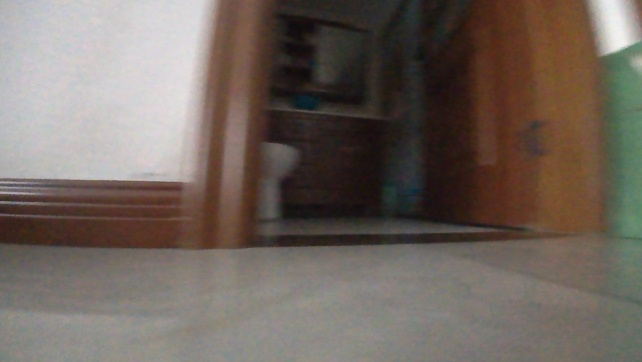toilet: (259, 140, 301, 221)
